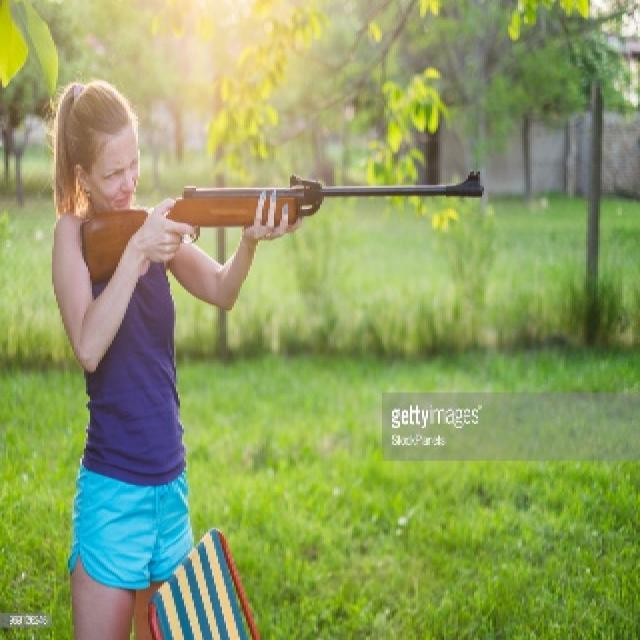weapon: (70, 166, 498, 286)
